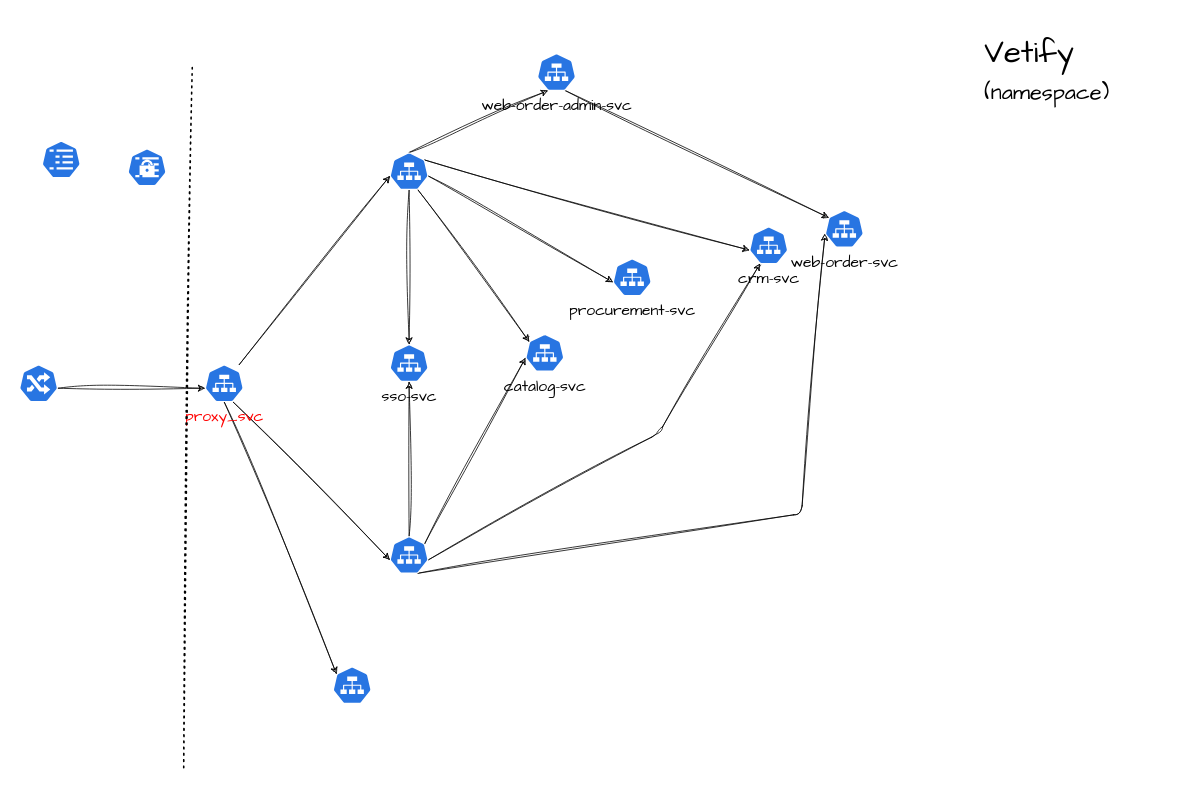
Image size: 1191x786. Some labels were removed from this diagram. The shapes that lost their labels are listed below. From the top down, each one's centre as x and y in pixels, then its label:
At point (409, 171): "cloud-svc".
At point (38, 383): "ingress".
At point (409, 554): "portal-svc".
At point (352, 685): "echo-svc".
